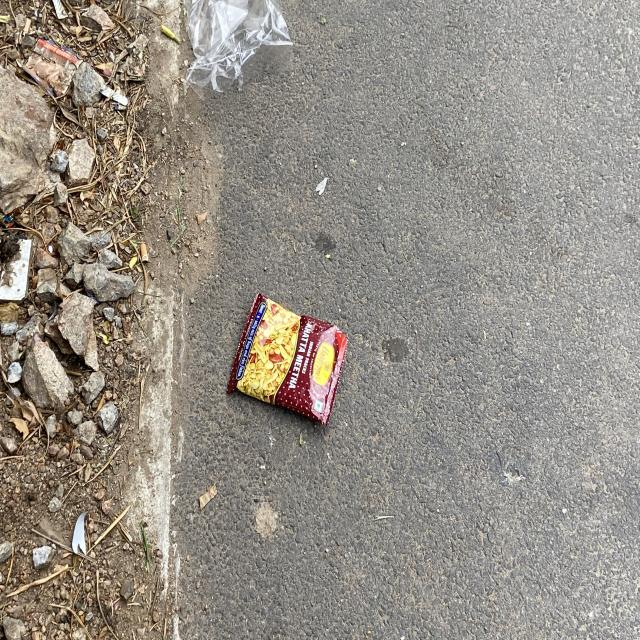giay_goi: (227, 294, 345, 422)
nhua: (184, 0, 292, 96)
